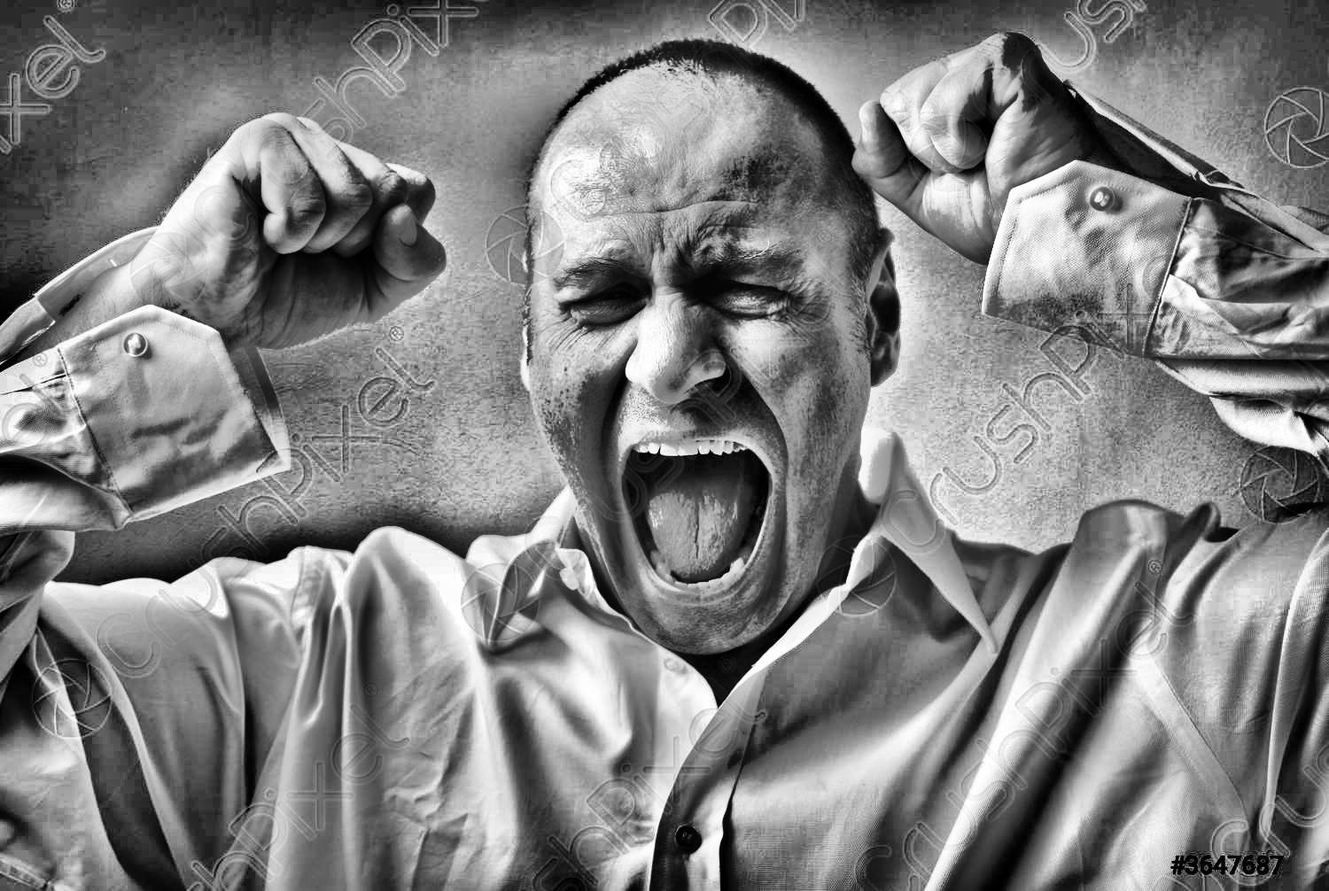angry: (488, 78, 930, 663)
